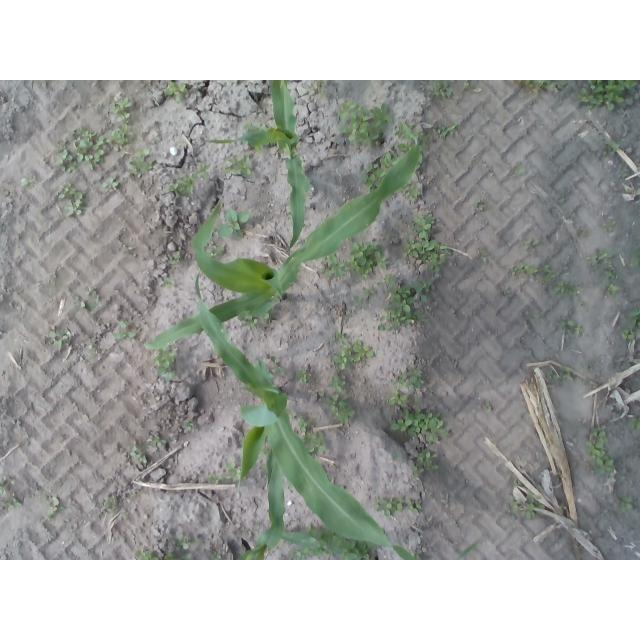Maize: (195, 269, 481, 560), (143, 121, 421, 352), (208, 80, 311, 252), (237, 449, 330, 560)
Weeds: (56, 123, 130, 173), (388, 390, 453, 443), (377, 274, 432, 335), (403, 213, 450, 274), (339, 101, 393, 148), (577, 80, 639, 112), (330, 331, 374, 371), (350, 239, 391, 278), (166, 164, 210, 196), (505, 493, 547, 525), (319, 393, 356, 427), (587, 428, 613, 475), (376, 495, 421, 518), (57, 182, 86, 217), (128, 148, 159, 180), (309, 527, 343, 555), (412, 449, 442, 479), (218, 210, 249, 239), (393, 364, 423, 391), (513, 80, 568, 94), (68, 287, 101, 309), (153, 350, 175, 383), (396, 121, 427, 143), (547, 364, 574, 388), (225, 152, 252, 176), (342, 540, 374, 560), (426, 80, 454, 101), (587, 248, 614, 269), (508, 260, 541, 277), (362, 163, 382, 191), (302, 431, 326, 454), (43, 496, 66, 520), (163, 80, 187, 102), (49, 325, 71, 349), (557, 318, 584, 337), (110, 97, 132, 120), (323, 255, 345, 277), (554, 280, 584, 296), (113, 322, 136, 342), (326, 375, 346, 394), (177, 533, 199, 550), (541, 263, 558, 285), (99, 496, 118, 515), (434, 125, 459, 139), (602, 139, 620, 158), (147, 433, 166, 451), (404, 180, 421, 200), (133, 548, 160, 560), (129, 445, 147, 463), (294, 368, 313, 385), (101, 178, 121, 194), (238, 314, 258, 330), (625, 308, 640, 329), (286, 549, 314, 560), (618, 496, 635, 514), (381, 153, 400, 169), (269, 357, 286, 374), (225, 460, 239, 480), (306, 80, 326, 93), (168, 250, 184, 266), (208, 243, 225, 258), (524, 308, 539, 324), (298, 418, 314, 433), (163, 552, 192, 560), (349, 293, 364, 307), (472, 200, 485, 216), (86, 340, 100, 354), (602, 283, 618, 295), (525, 240, 539, 253), (205, 472, 219, 485), (631, 246, 640, 266), (628, 415, 640, 430), (161, 278, 176, 290), (0, 475, 10, 493), (603, 220, 616, 233), (621, 328, 635, 340), (362, 287, 378, 297), (9, 498, 21, 511), (398, 141, 411, 153), (207, 549, 221, 560), (390, 450, 402, 462), (243, 123, 261, 131), (604, 269, 617, 280), (478, 249, 488, 263), (481, 401, 493, 412), (578, 226, 587, 239), (515, 167, 525, 178), (502, 285, 511, 296), (583, 362, 594, 371), (19, 178, 29, 187), (184, 419, 192, 429), (513, 481, 523, 488), (463, 81, 469, 88), (256, 145, 263, 151), (559, 198, 565, 203)
